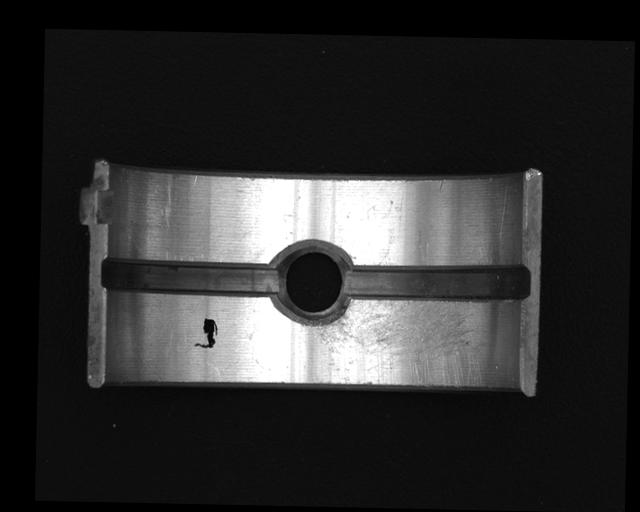blot: (194, 316, 218, 350)
gap: (344, 261, 531, 303), (101, 258, 279, 296)
hole: (271, 245, 352, 324)
nick: (162, 176, 174, 227)
scratch: (310, 298, 491, 386)
